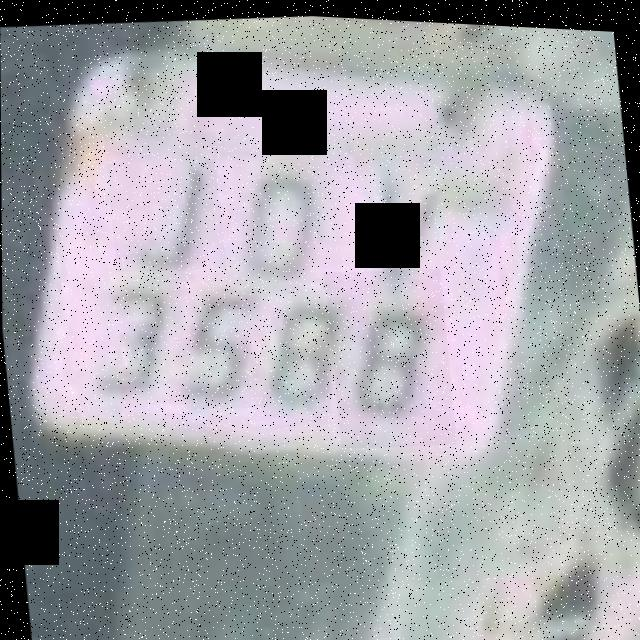3: (63, 259, 187, 400)
5: (156, 264, 268, 412)
8: (324, 259, 456, 449)
B: (244, 267, 361, 425)
J: (103, 125, 228, 275)
O: (212, 139, 345, 298)
